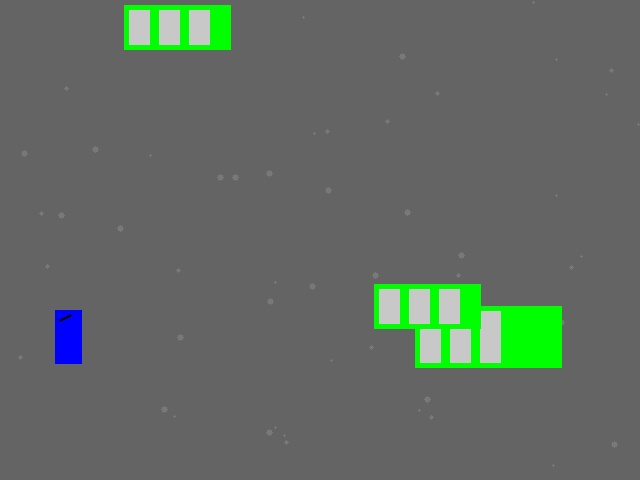bus: (415, 306, 561, 367), (374, 284, 480, 328), (124, 5, 230, 49)
motorcycle: (55, 310, 81, 363)
